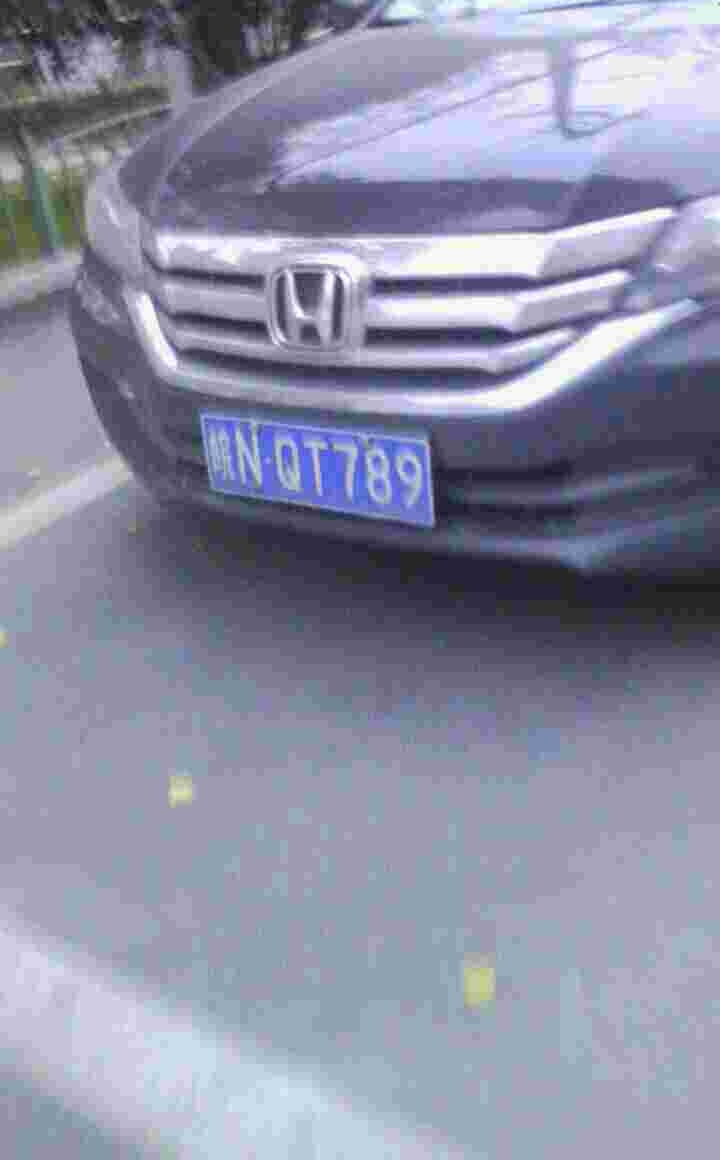license_plate: (190, 405, 435, 526)
